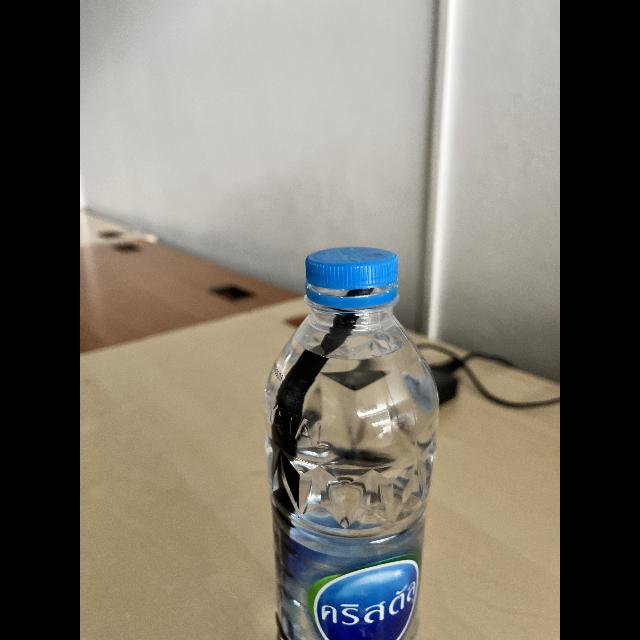plastic_bottle_cap: (300, 238, 402, 296)
